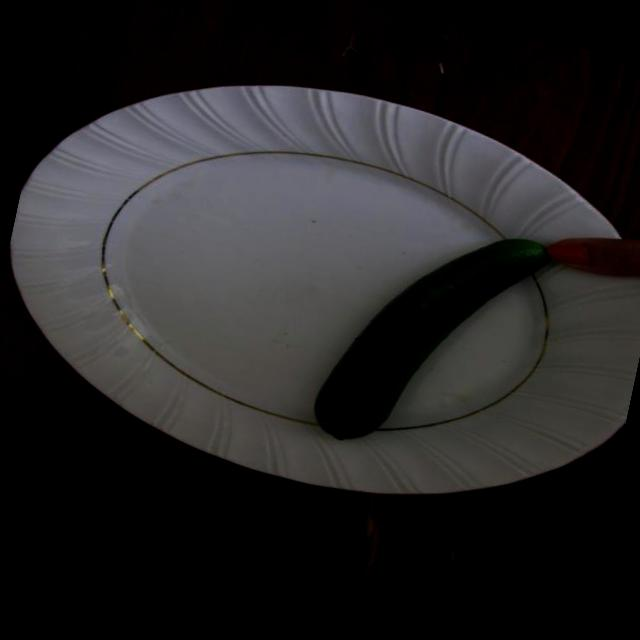Cucumber: (294, 194, 546, 480)
Finger: (535, 215, 640, 290)
